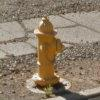Hydrant: (24, 10, 69, 90)
